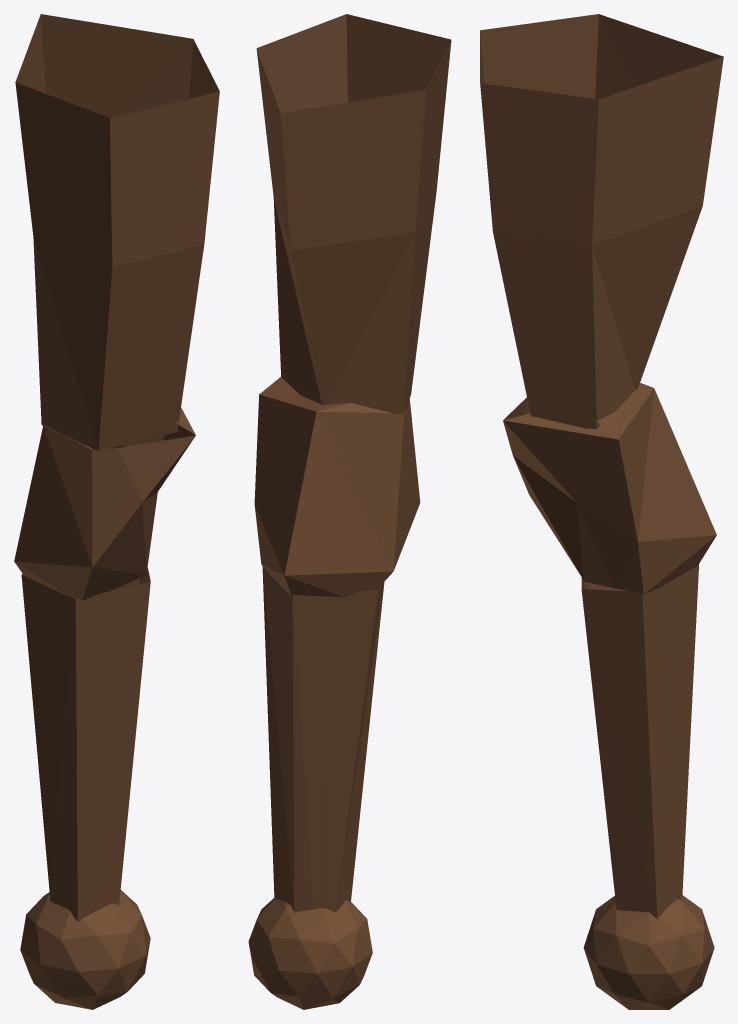
The model's file is leg.dae.
The picture shows the model from 3 angles, left to right: view 1: azimuth 30°, elevation 25°; view 2: azimuth 150°, elevation 25°; view 3: azimuth 270°, elevation 25°; orthographic projection. The views are drawn at different scales.
Visible parts, largest first — view 1: leg, knees.001; view 2: leg, knees.001; view 3: leg, knees.001.
Part boxes in pixels (box(x1,y1,x2,y2)): leg: box(15, 14, 219, 1009); knees.001: box(14, 407, 195, 600); leg: box(248, 14, 451, 1009); knees.001: box(254, 377, 420, 597); leg: box(480, 14, 723, 1009); knees.001: box(503, 383, 716, 594).
Size of the model in its own units: 0.3594 by 0.4338 by 1.86.
